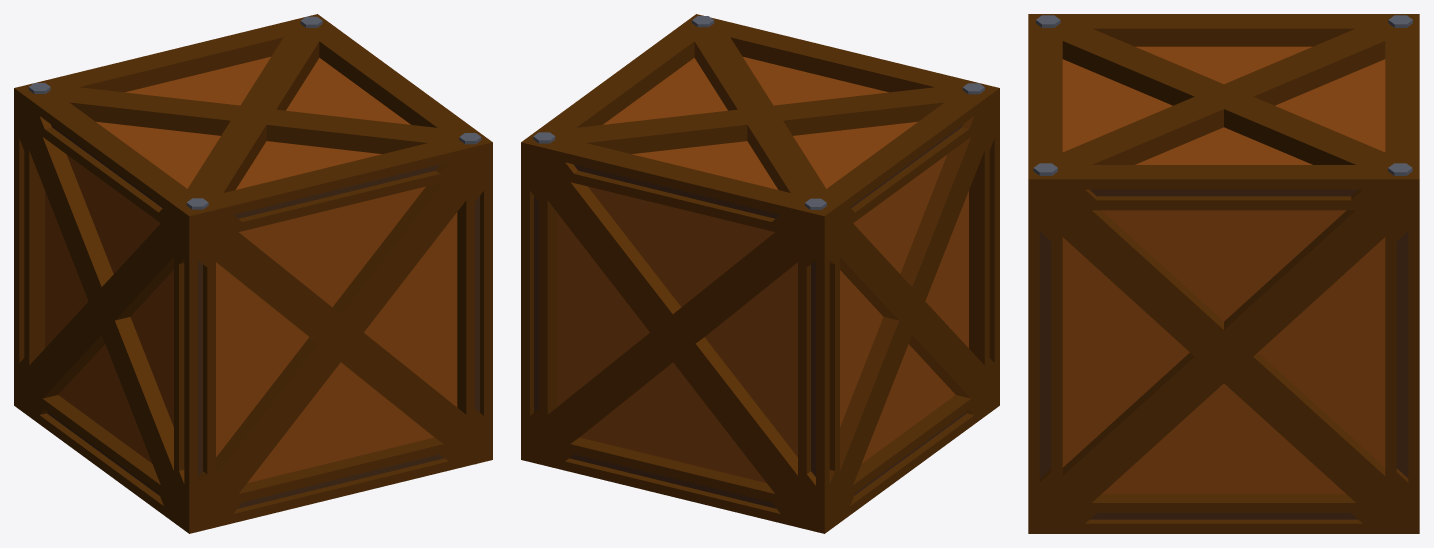
The model's file is WoodBox.fbx.
The picture shows the model from 3 angles, left to right: view 1: azimuth 30°, elevation 25°; view 2: azimuth 150°, elevation 25°; view 3: azimuth 270°, elevation 25°; orthographic projection. The views are drawn at different scales.
Visible parts, largest first — view 1: Cube.069, Cube.042, Cube.019, Cube.018, Cube.020, Cube.017, Cube.041, Cube.064, Cube.066, Cube.049, Cube.029, Cube.055 (+29 smaller); view 2: Cube.070, Cube.069, Cube.071, Cube.029, Cube.010, Cube.072, Cube.008, Cube.011, Cube.012, Cube.061, Cube.062, Cube.049 (+25 smaller); view 3: Cube.032, Cube.004, Cube.006, Cube.007, Cube.005, Cube.037, Cube.038, Cube.040, Cube.035, Cube.036, Cube.033, Cube.034 (+19 smaller).
Boxes of the visible parts, left/top/right/bottom form: Cube.069: left=27, top=193, right=469, bottom=533; Cube.042: left=189, top=142, right=492, bottom=533; Cube.019: left=364, top=212, right=457, bottom=407; Cube.018: left=239, top=186, right=425, bottom=307; Cube.020: left=247, top=362, right=434, bottom=482; Cube.017: left=216, top=262, right=308, bottom=456; Cube.041: left=457, top=166, right=492, bottom=435; Cube.064: left=332, top=177, right=466, bottom=332; Cube.066: left=216, top=337, right=340, bottom=499; Cube.049: left=27, top=97, right=187, bottom=222; Cube.029: left=37, top=19, right=294, bottom=92; Cube.055: left=14, top=112, right=44, bottom=381; Cube.070: left=521, top=240, right=973, bottom=533; Cube.069: left=730, top=37, right=999, bottom=523; Cube.071: left=521, top=20, right=780, bottom=513; Cube.029: left=544, top=143, right=801, bottom=231; Cube.010: left=556, top=212, right=649, bottom=407; Cube.072: left=533, top=16, right=999, bottom=533; Cube.008: left=579, top=362, right=766, bottom=482; Cube.011: left=588, top=186, right=774, bottom=307; Cube.012: left=705, top=262, right=797, bottom=456; Cube.061: left=547, top=177, right=681, bottom=332; Cube.062: left=673, top=337, right=797, bottom=499; Cube.049: left=826, top=97, right=986, bottom=222; Cube.032: left=1028, top=165, right=1419, bottom=240; Cube.004: left=1258, top=237, right=1385, bottom=467; Cube.006: left=1062, top=237, right=1189, bottom=467; Cube.007: left=1102, top=383, right=1345, bottom=494; Cube.005: left=1101, top=210, right=1346, bottom=321; Cube.037: left=1058, top=494, right=1389, bottom=533; Cube.038: left=1385, top=206, right=1419, bottom=506; Cube.040: left=1028, top=206, right=1062, bottom=506; Cube.035: left=1062, top=352, right=1223, bottom=502; Cube.036: left=1224, top=352, right=1385, bottom=502; Cube.033: left=1062, top=210, right=1223, bottom=356; Cube.034: left=1224, top=210, right=1385, bottom=356.
Bounding box in the file's own units: 200 × 204 × 200.
